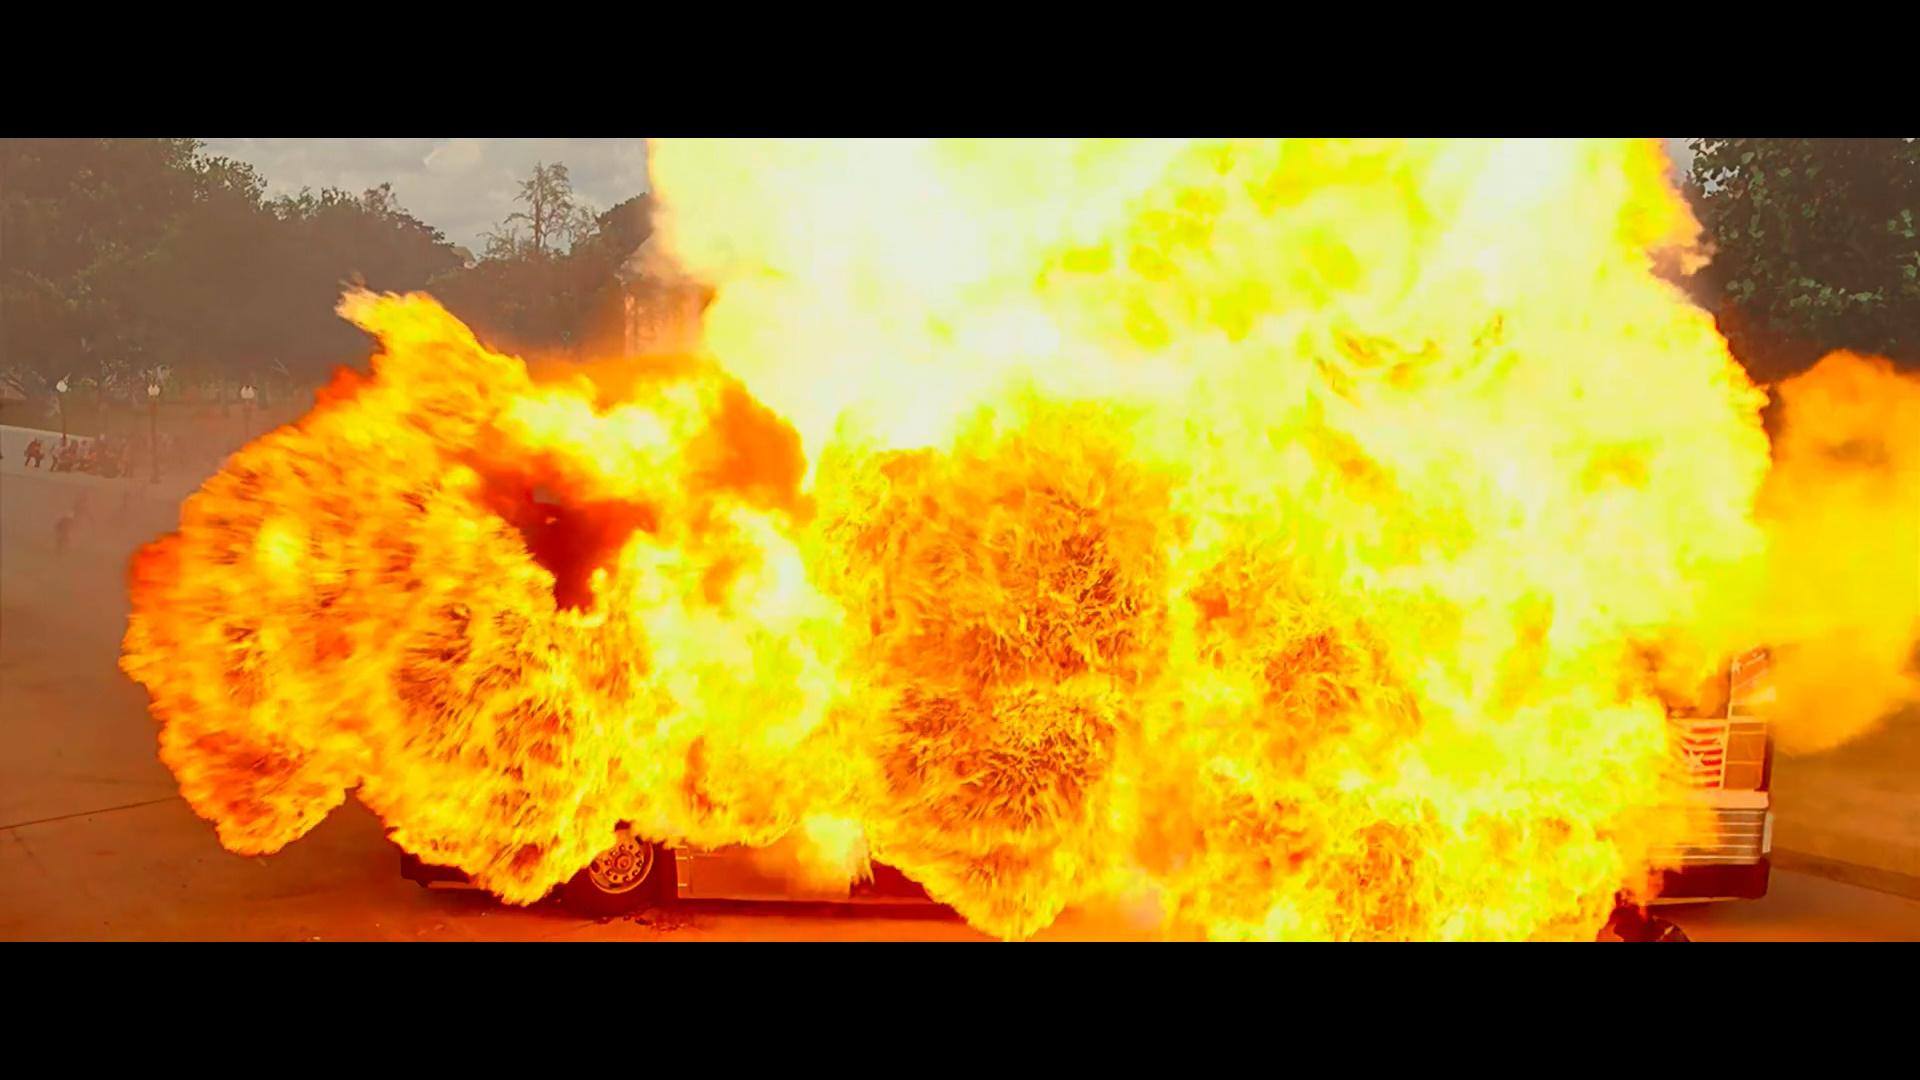fire: (108, 135, 1920, 943)
